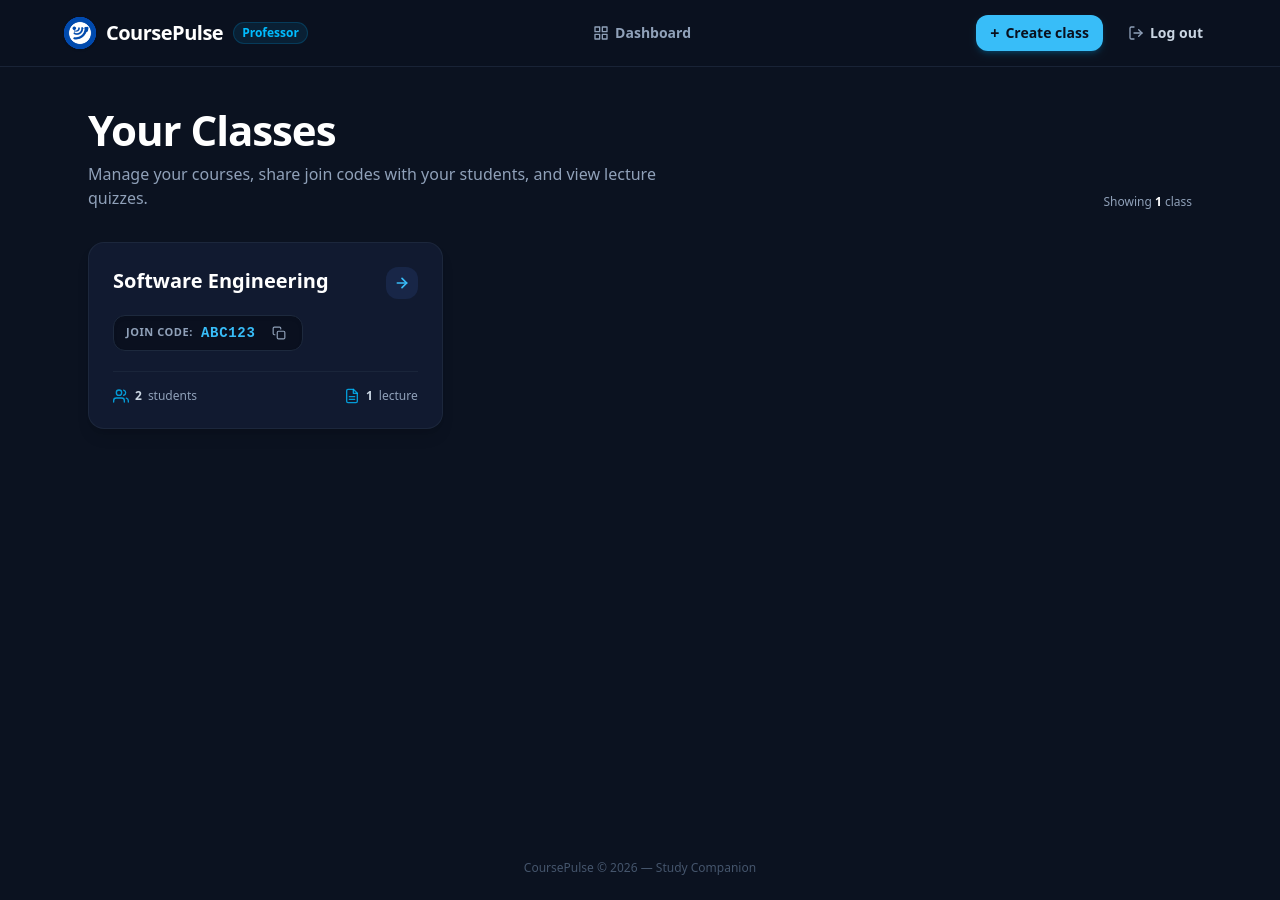
Scenario: ProfessorDashboard copy › shows Copied only when the class-card copy succeeds
The image size is (1280, 900).
Expected: the heading "Software Engineering" is shown, [113,267,329,295]
Click the button named "copy join code abc123".
click(279, 333)  # box [268,322,290,344]
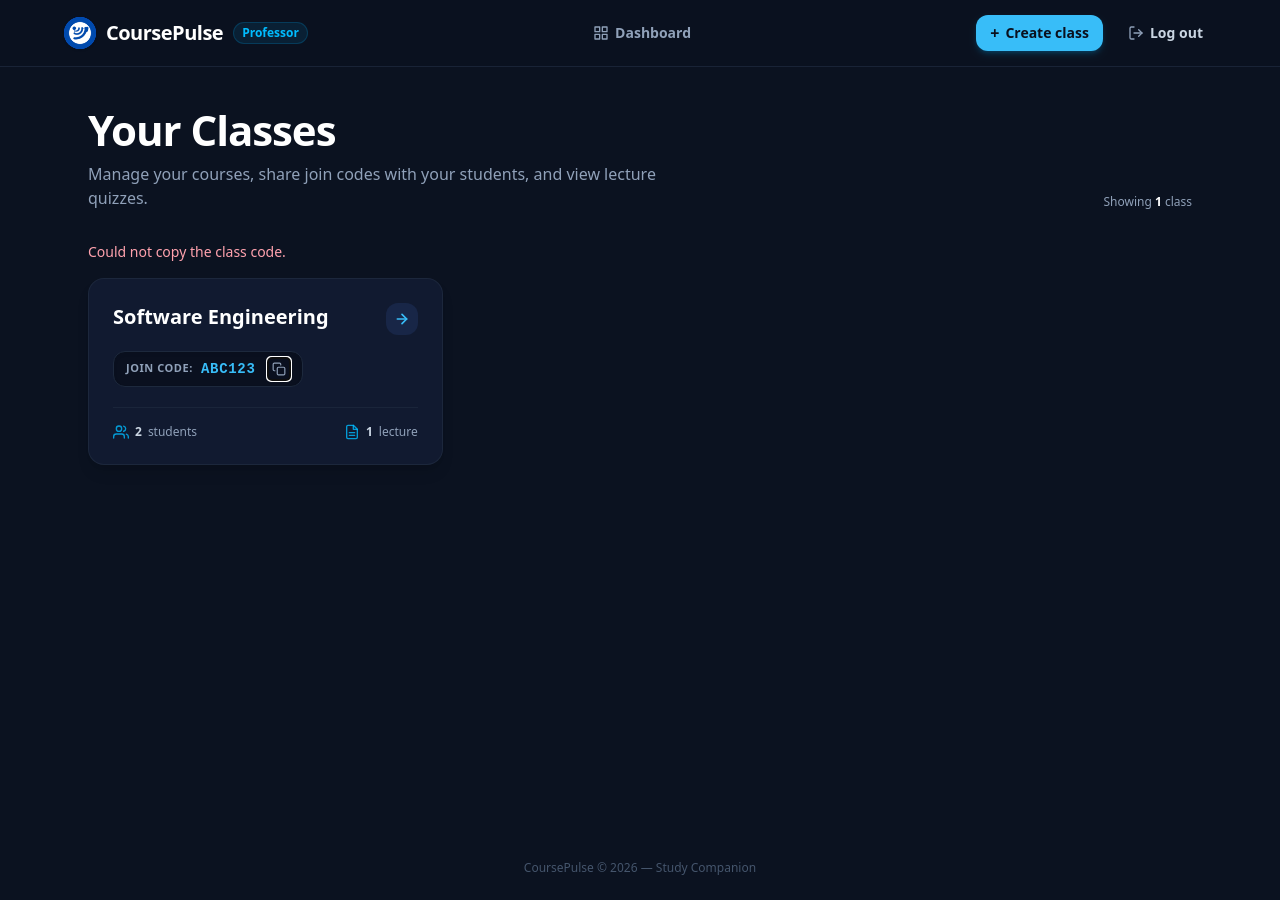
Expected: the text "Copied!" is not shown
Now the message reads "Could not copy the class code.", box [88,242,286,261]
Click the button named "copy join code abc123".
click(279, 369)  # box [268,358,290,380]
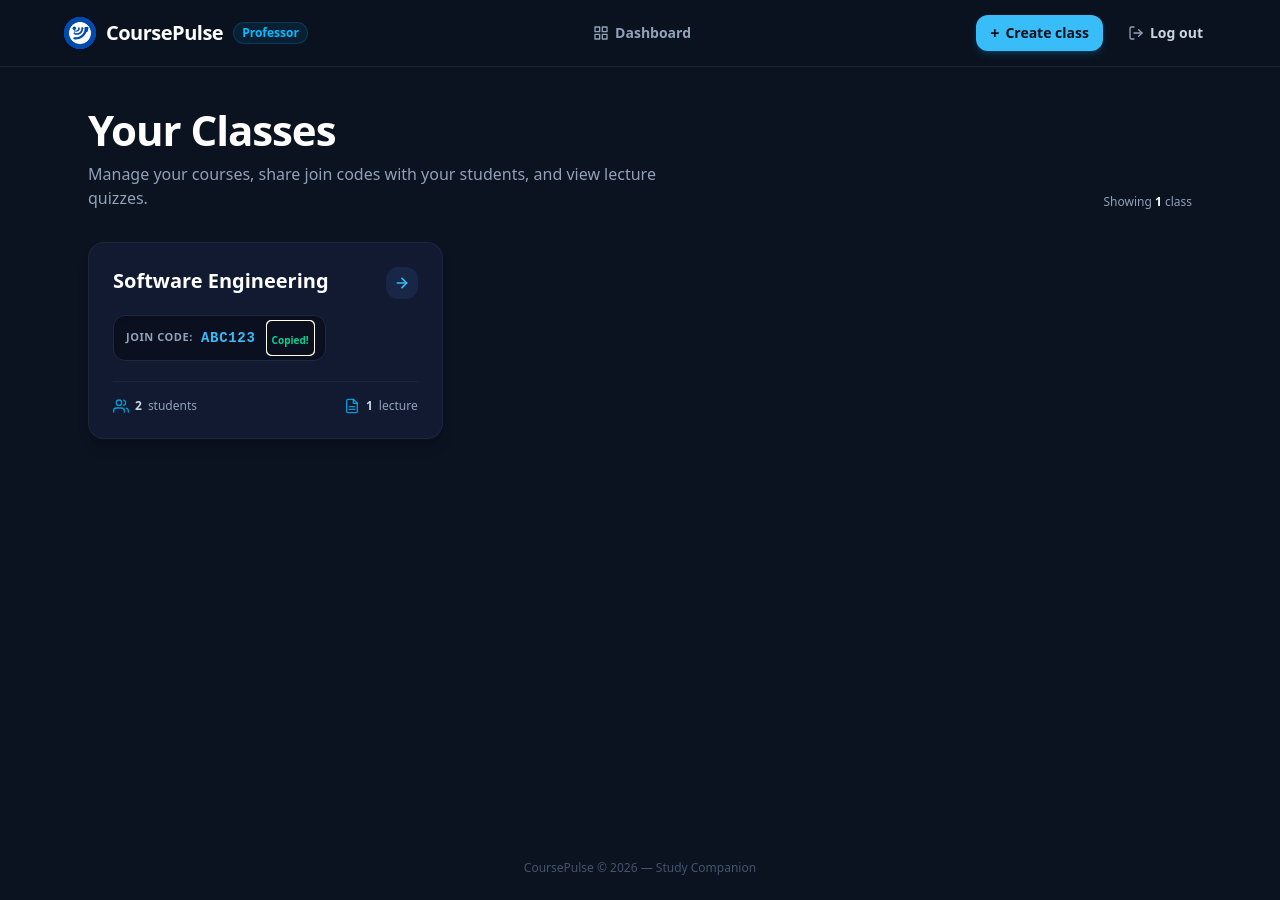
Now the text "Copied!" is shown, box [272,333,309,347]
Now the message "Could not copy the class code." is gone
